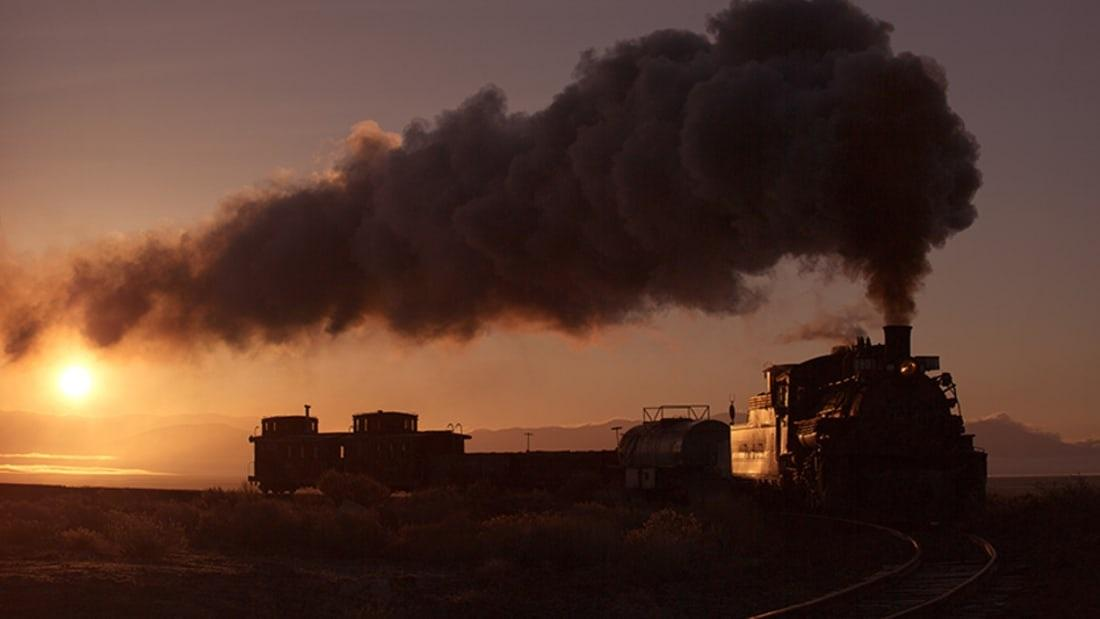smoke: (403, 128, 903, 243)
